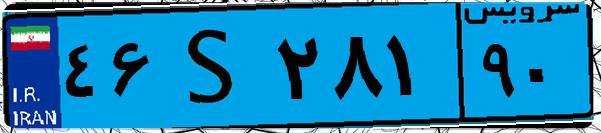0: (525, 38, 570, 115)
1: (385, 28, 445, 110)
2: (270, 28, 330, 110)
4: (57, 26, 110, 100)
6: (110, 28, 158, 98)
8: (330, 28, 385, 110)
9: (475, 38, 525, 113)
S: (158, 12, 270, 120)
